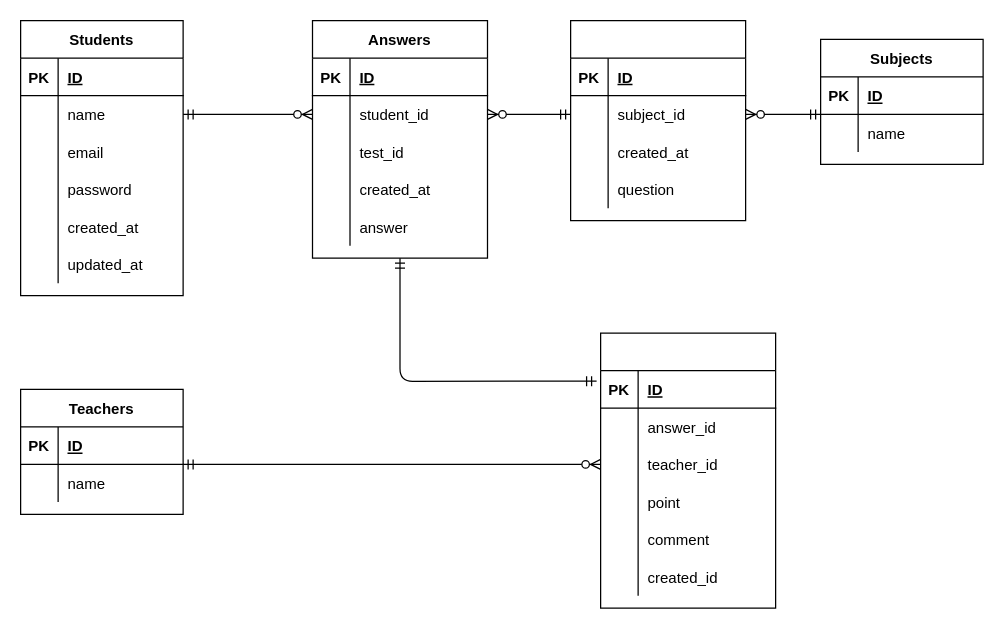
Some shapes in this 1004 by 629 pixel diagram are drawn without their labels. The box of each missing label's shape, as (x1, y1, x2, y2) in pixels:
Results: (599, 332, 776, 608)
Tests: (569, 19, 746, 221)
